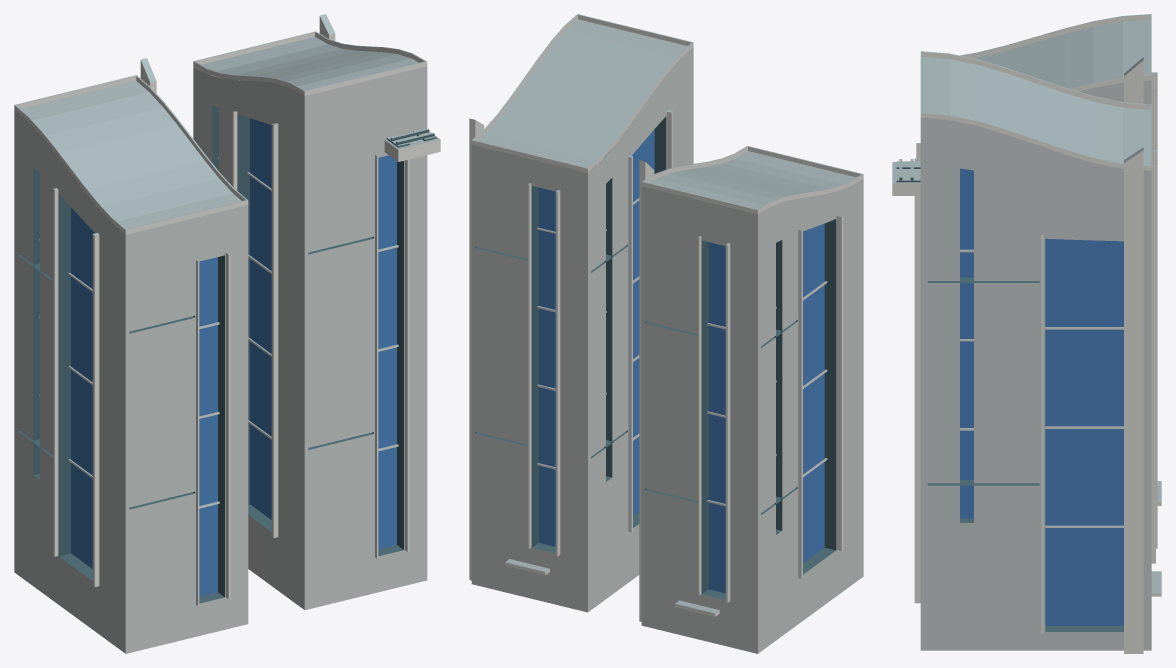
File: 23_Doppeldach.obj
The picture shows the model from 3 angles, left to right: view 1: azimuth 30°, elevation 25°; view 2: azimuth 150°, elevation 25°; view 3: azimuth 270°, elevation 25°; orthographic projection. The views are drawn at different scales.
Size of the model in its own units: 0.6308 by 1 by 0.4539.
